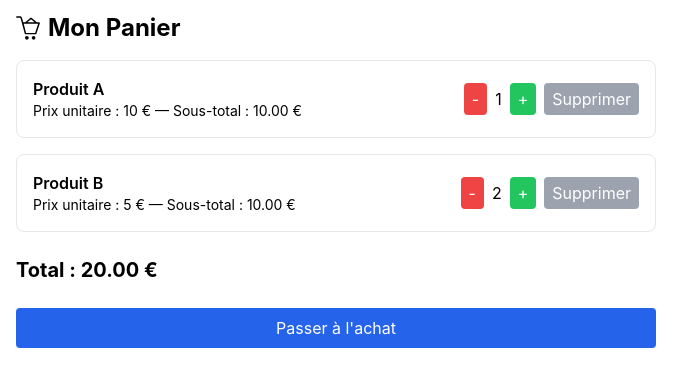
Test case: PanierPage › supprime un produit avec le bouton "Supprimer"
The image size is (673, 365).
What coordinates should you click on to do the following:
click the button "Supprimer" in the row of "Produit A"
I would click on:
 (592, 99)
Its box is [544, 83, 639, 115].
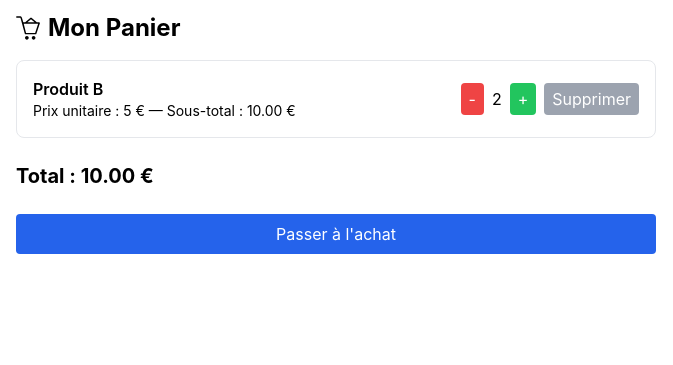
Expected: the heading "Produit A" is gone
Expected: the heading "Produit B" is shown, [33, 79, 103, 99]
